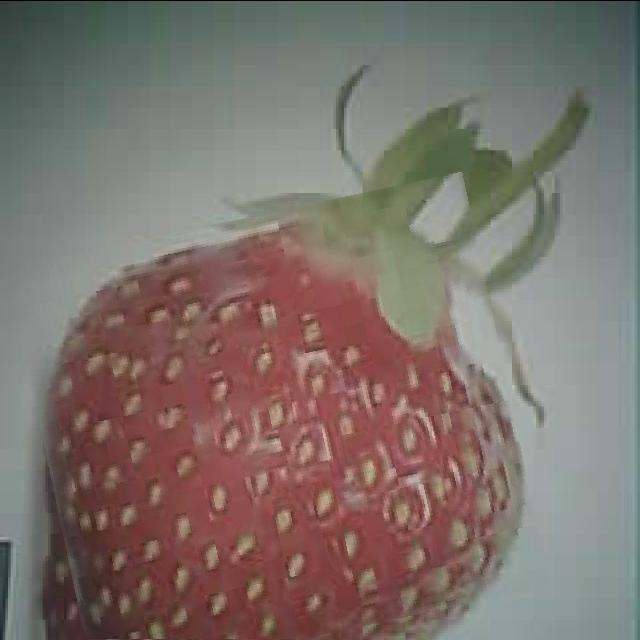strawberry: (26, 194, 531, 640)
